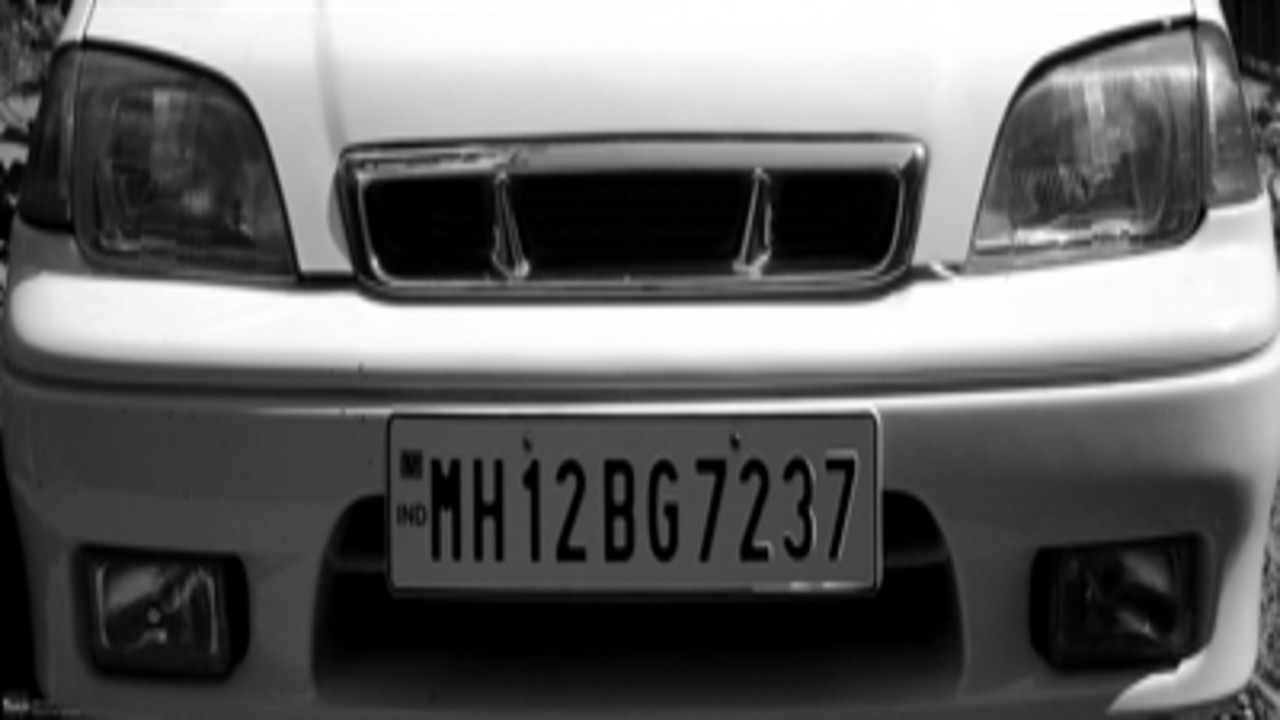license: (377, 404, 890, 596)
